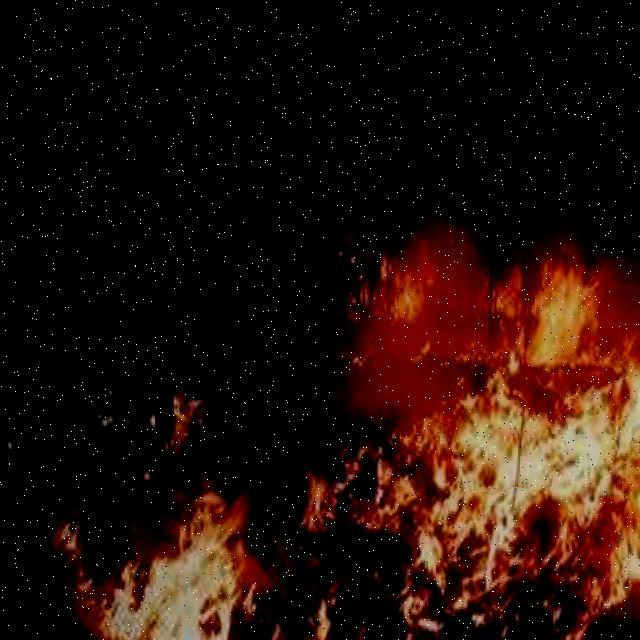Fire: (39, 174, 639, 639)
